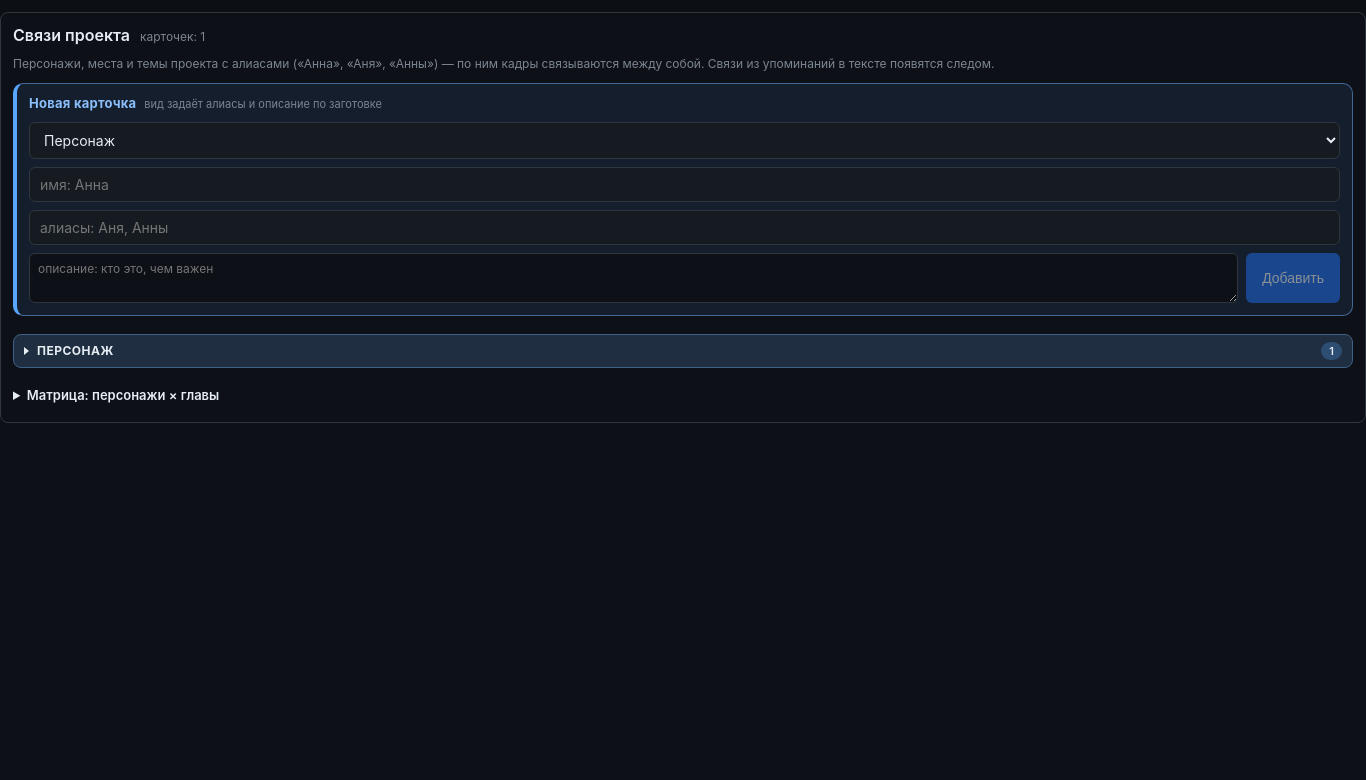
Test case: EntitiesPanel — клетка матрицы раскрывает карточку упоминания (0.73.0 → 0.87.0) › клик по числу раскрывает карточку: глава, кадры главы и цитата
Click the heading "Матрица: персонажи × главы": (123, 395) [27, 387, 219, 403]
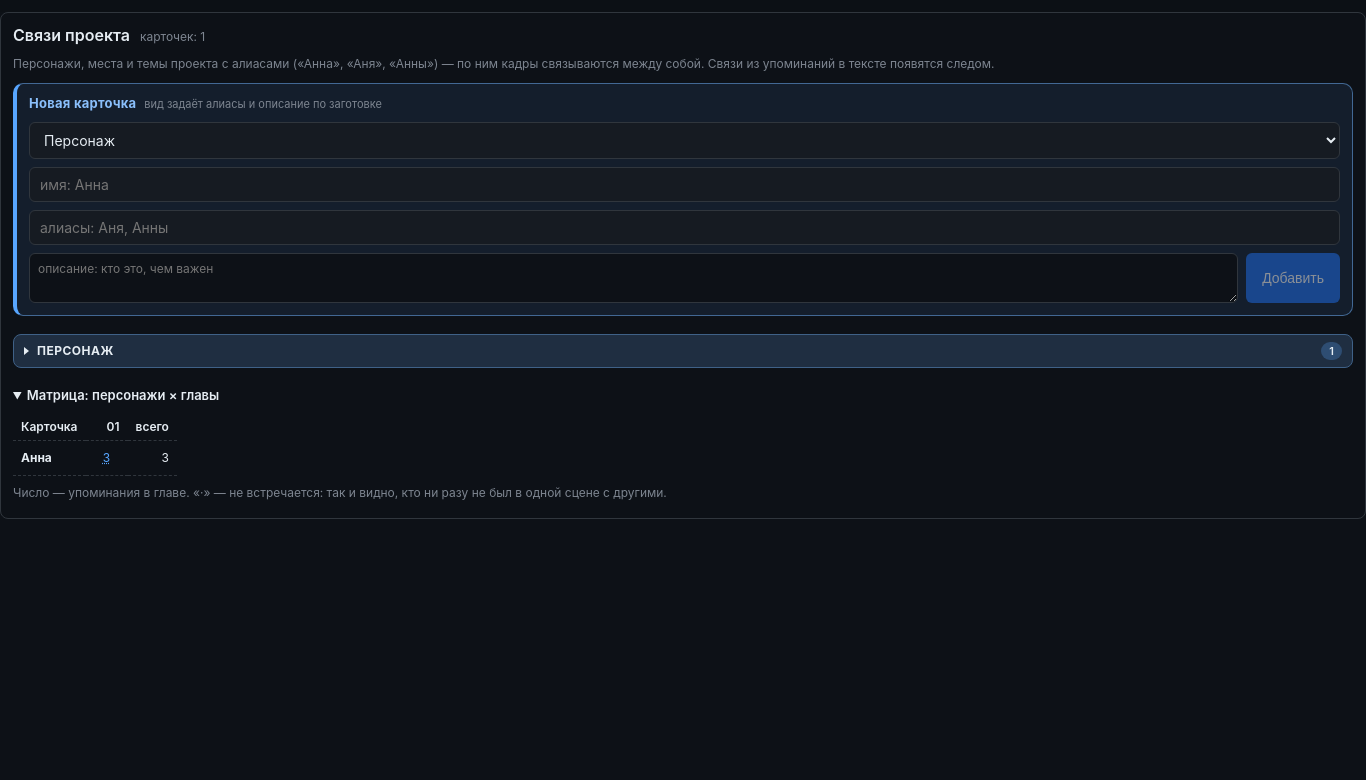
Click the button "3": (106, 458) [94, 444, 120, 470]
(page scrolled)
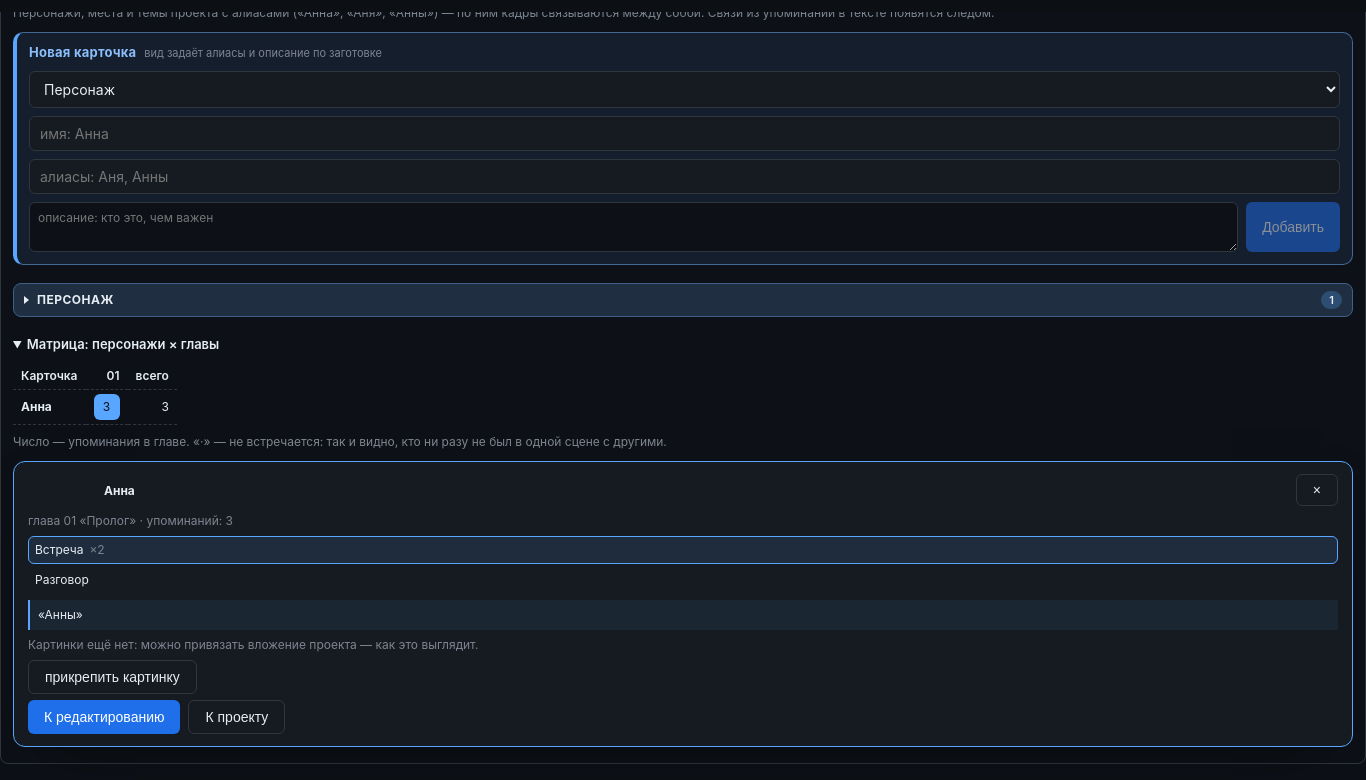
Check: the element named "Упоминания «Анна»" shows "глава 01", box [28, 512, 222, 528]
Check: the element named "Упоминания «Анна»" shows "Пролог", box [28, 512, 222, 528]
Check: the element named "Упоминания «Анна»" shows "Встреча", box [28, 536, 1338, 564]
